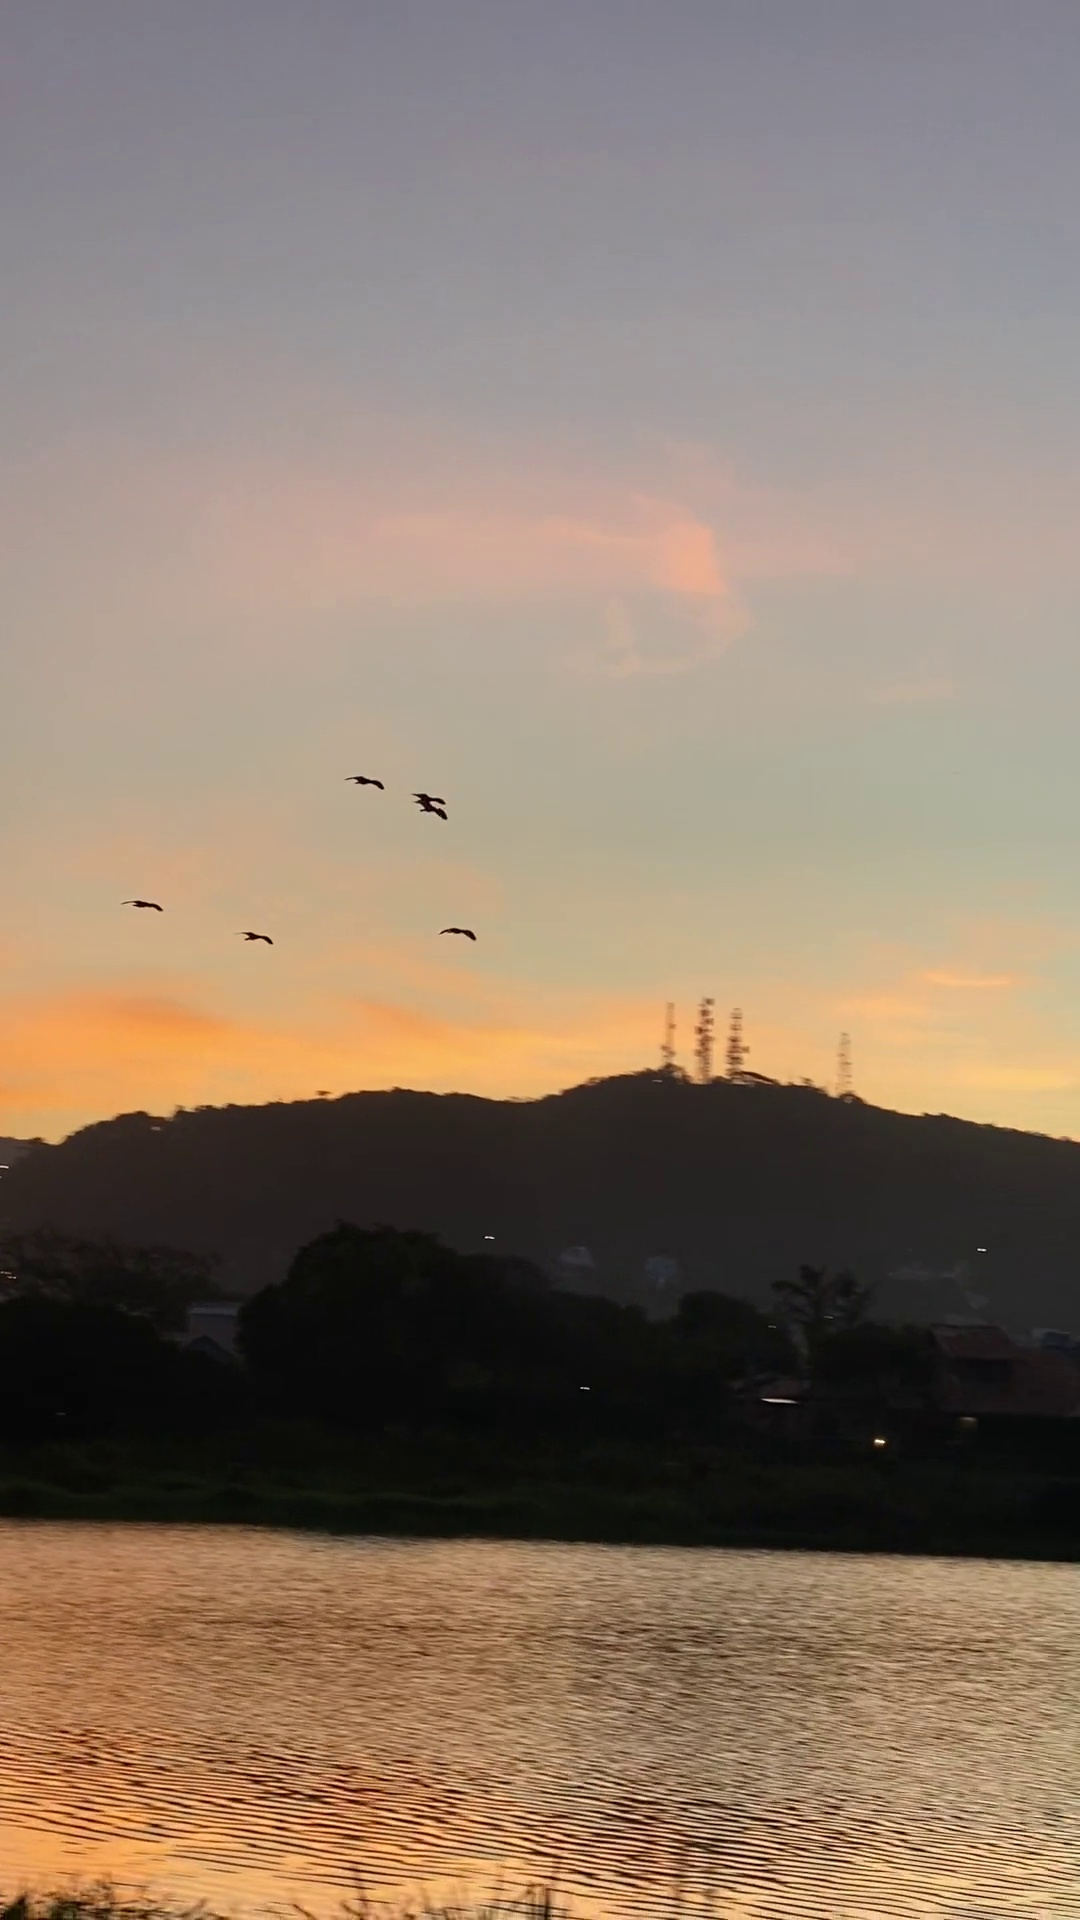bird: (120, 898, 162, 913), (345, 775, 382, 791), (411, 790, 447, 804), (419, 802, 447, 820), (440, 928, 475, 943), (243, 931, 273, 945)
